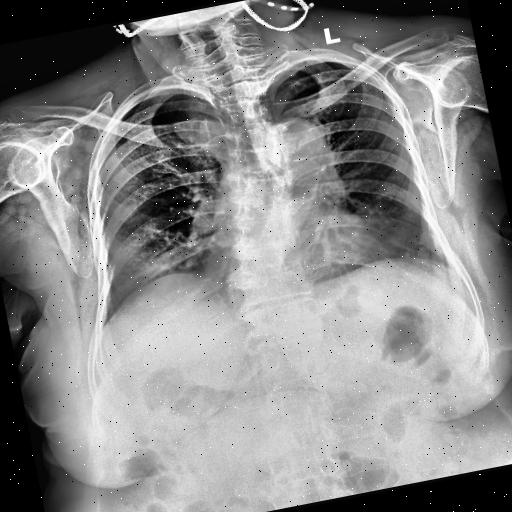0- Aortic enlargement: (254, 112, 336, 190), (258, 113, 333, 187), (250, 112, 331, 180)
3- Cardiomegaly: (197, 206, 388, 298), (201, 218, 392, 300), (198, 218, 388, 294)
7- Lung Opacity: (358, 190, 434, 266), (100, 232, 166, 302)
